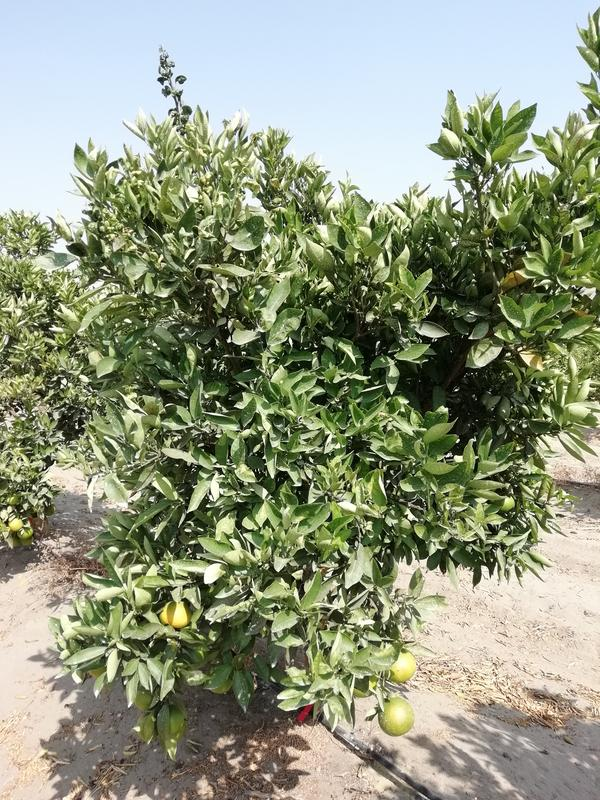mandarina verde: (378, 698, 416, 735), (383, 650, 416, 683), (156, 599, 192, 627), (499, 495, 516, 510)
